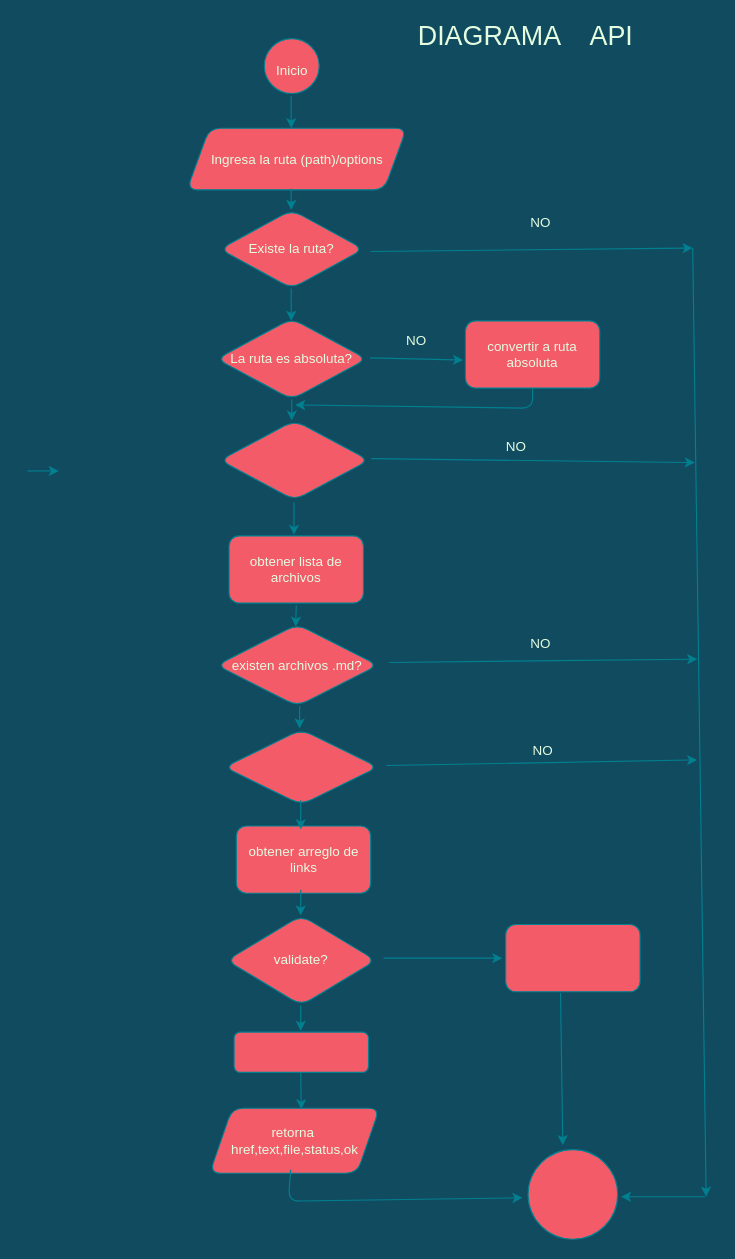
This 735x1259 diagram has some shape labels left out. The shapes that lost their labels are listed below. From the top down, each one's centre as x and y in pixels, then its label:
the point at 294,459: es un directorio?
the point at 300,767: contiene links
the point at 572,957: retorna href,text,file
the point at 300,1051: validar links
the point at 572,1194: fin
